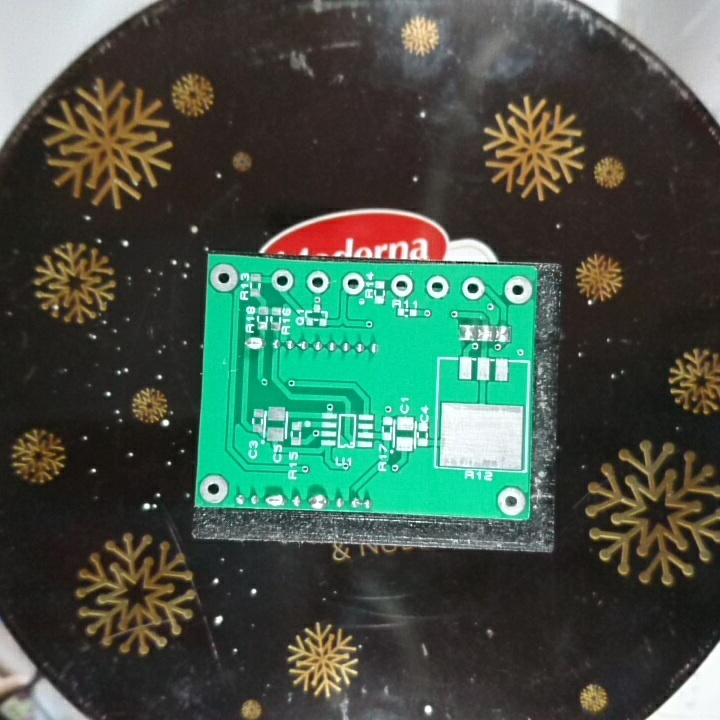F: (496, 483, 526, 518), (198, 472, 230, 504), (502, 274, 533, 306), (209, 261, 238, 294), (339, 269, 367, 298), (423, 273, 451, 300), (304, 269, 331, 295), (457, 275, 485, 300), (388, 274, 414, 300), (269, 268, 295, 293)
P: (240, 333, 267, 354), (262, 489, 288, 510), (305, 492, 331, 511)
